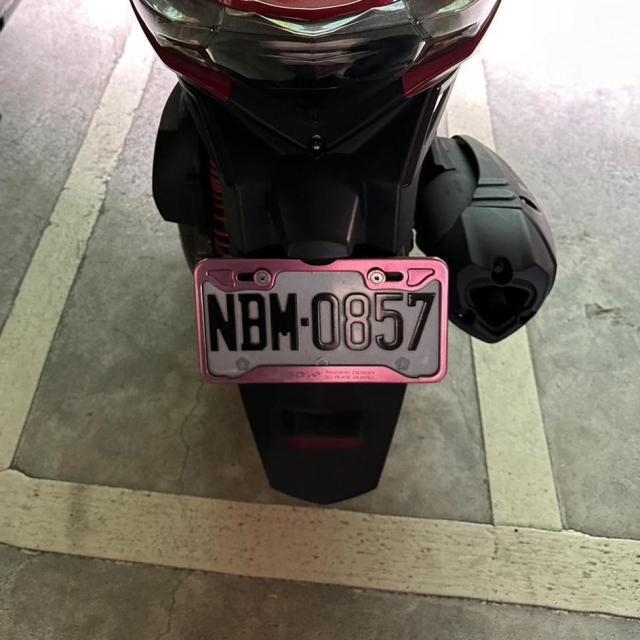W: (185, 245, 456, 393)
